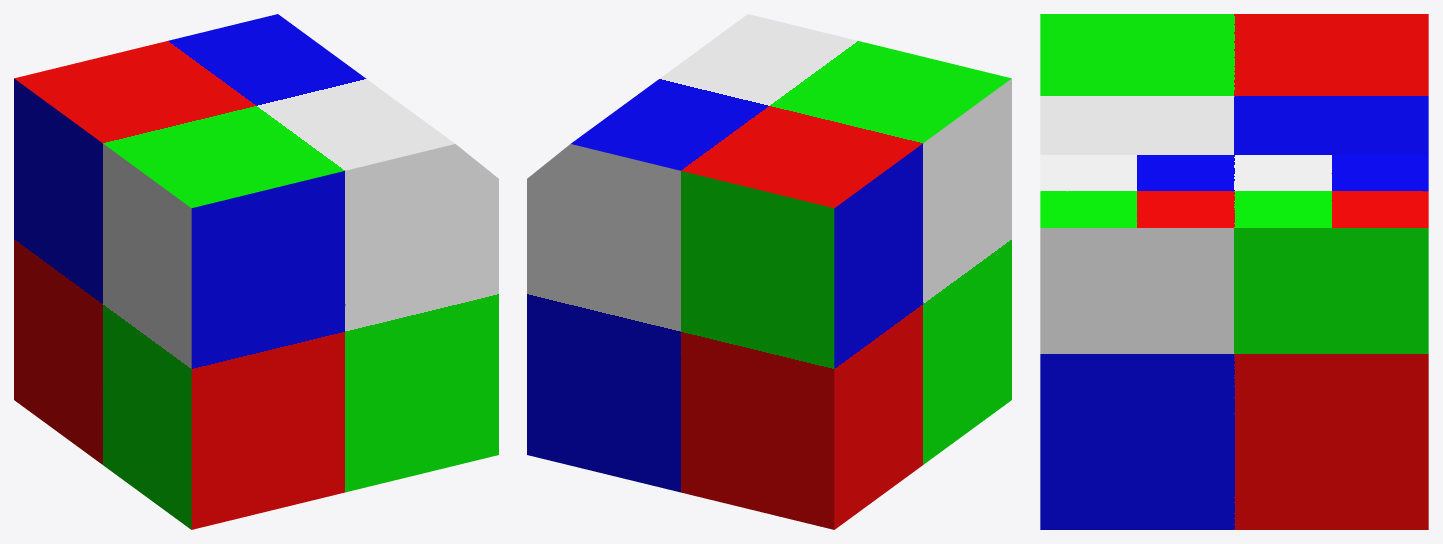
Rendered from source-edge.glb.
The picture shows the model from 3 angles, left to right: view 1: azimuth 30°, elevation 25°; view 2: azimuth 150°, elevation 25°; view 3: azimuth 270°, elevation 25°; orthographic projection. The views are drawn at different scales.
Parts seen in each view (by area): view 1: box; view 2: box; view 3: box.
Part boxes in pixels (x1=…): box: x1=14, y1=14, x2=498, y2=529; box: x1=527, y1=14, x2=1011, y2=529; box: x1=1040, y1=14, x2=1428, y2=529.
Size of the model in its own units: 2 by 2 by 2.
Materials: 2 (2 with a texture image).
